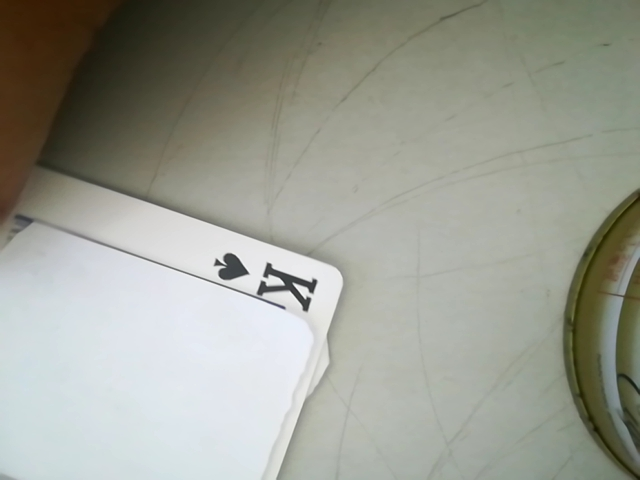ht k: (192, 243, 333, 314)
